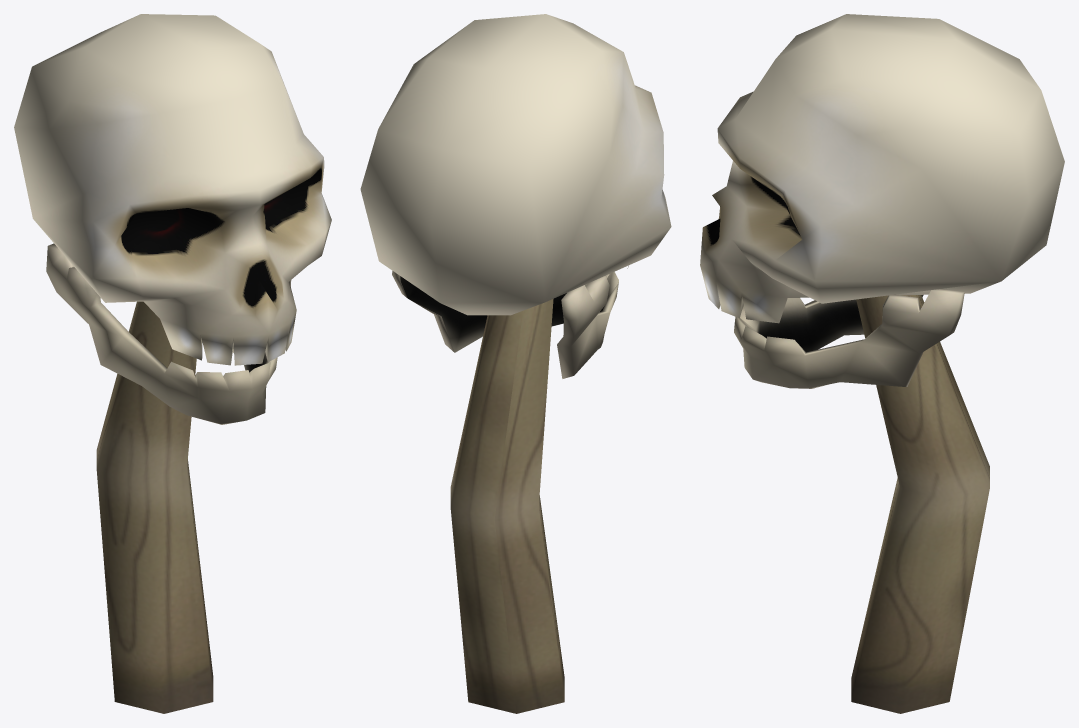
The model's file is Skull.FBX.
3 views of the same model, side by side, from view 1: azimuth 30°, elevation 25°; view 2: azimuth 150°, elevation 25°; view 3: azimuth 270°, elevation 25° (orthographic). The views are drawn at different scales.
Parts seen in each view (by area): view 1: Skull, Cylinder01; view 2: Skull, Cylinder01; view 3: Skull, Cylinder01.
Boxes of the visible parts, x1,y1,x2,y2 form: Skull: (14, 14, 331, 424); Cylinder01: (96, 301, 213, 713); Skull: (360, 14, 671, 378); Cylinder01: (450, 299, 564, 713); Skull: (700, 14, 1064, 388); Cylinder01: (851, 295, 989, 713).
Bounding box in the file's own units: 1.7 × 2.24 × 4.5.
Materials: 1 (1 with a texture image).
